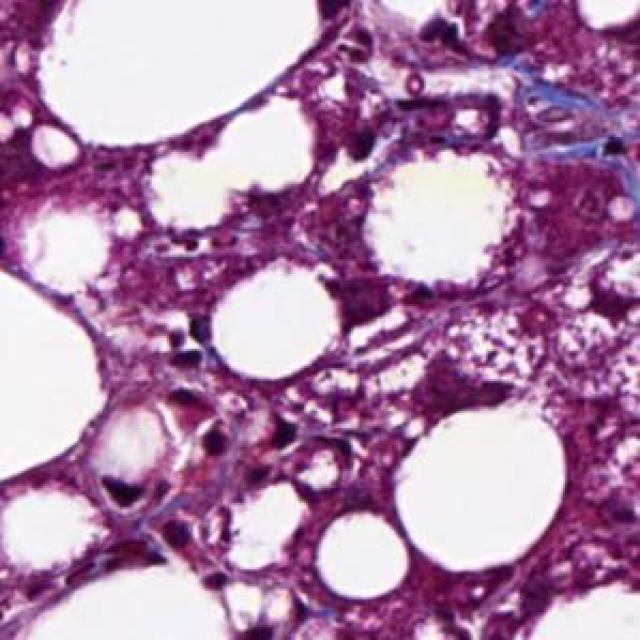inflammation: (188, 402, 334, 467), (377, 83, 507, 150), (130, 498, 242, 574), (158, 328, 227, 422), (567, 276, 640, 336)
